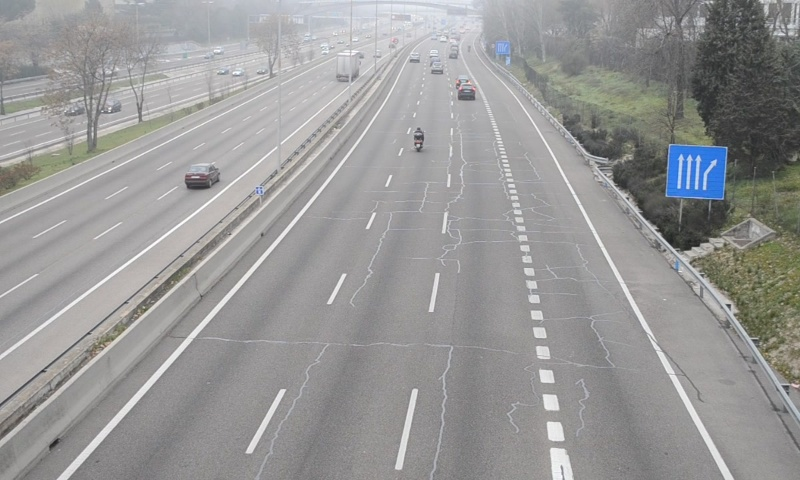car: (457, 82, 476, 102)
motorcycle: (412, 124, 425, 152)
